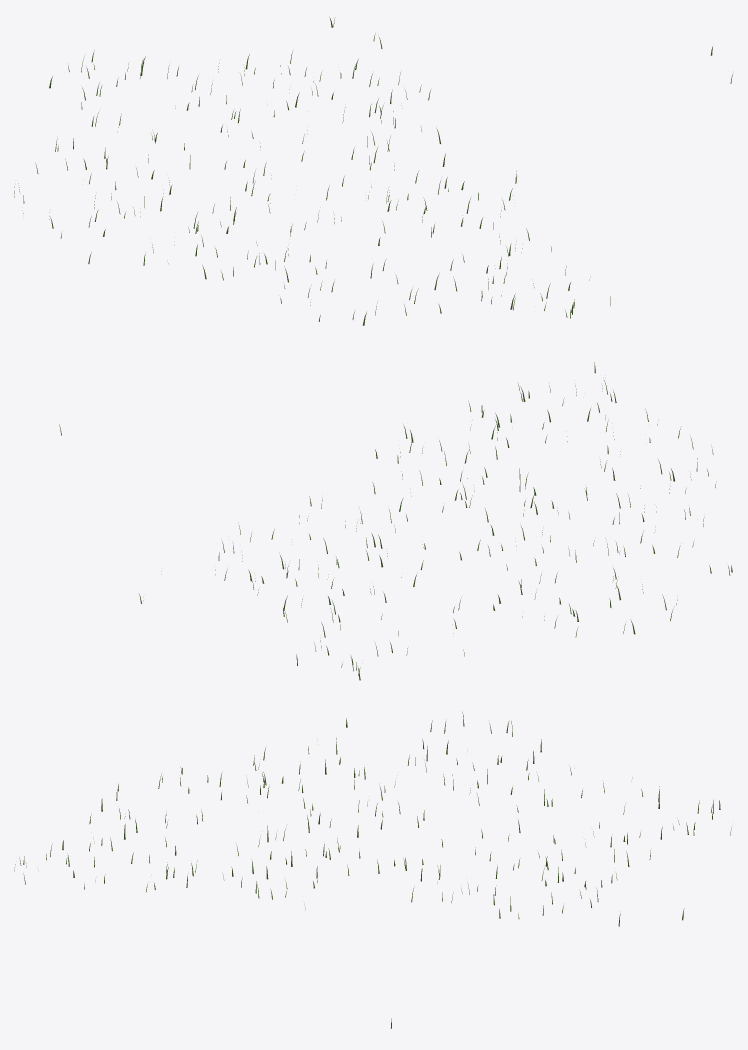
3 renders of one model, top to bottom at view 1: azimuth 30°, elevation 25°; view 2: azimuth 150°, elevation 25°; view 3: azimuth 270°, elevation 25°, orthographic. The views are drawn at different scales.
Parts seen in each view (by area): view 1: GrassPatch; view 2: GrassPatch; view 3: GrassPatch.
Part boxes in pixels (x1,y1,x2,y2): GrassPatch: [14, 17, 732, 325]; GrassPatch: [59, 362, 732, 680]; GrassPatch: [14, 712, 731, 1028].
Bounding box in the file's own units: 19.07 × 0.4919 × 18.69.
